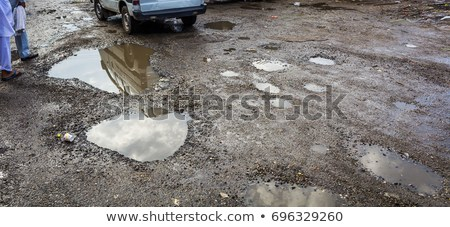pothole: (80, 95, 199, 166), (43, 29, 165, 92), (345, 127, 445, 197), (235, 167, 333, 216), (200, 9, 244, 34), (203, 11, 229, 39), (299, 47, 337, 66)
